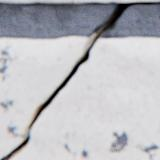brick: (0, 0, 135, 2)
broken_brick: (10, 37, 159, 159), (0, 36, 89, 158)
crack: (0, 0, 159, 159)
